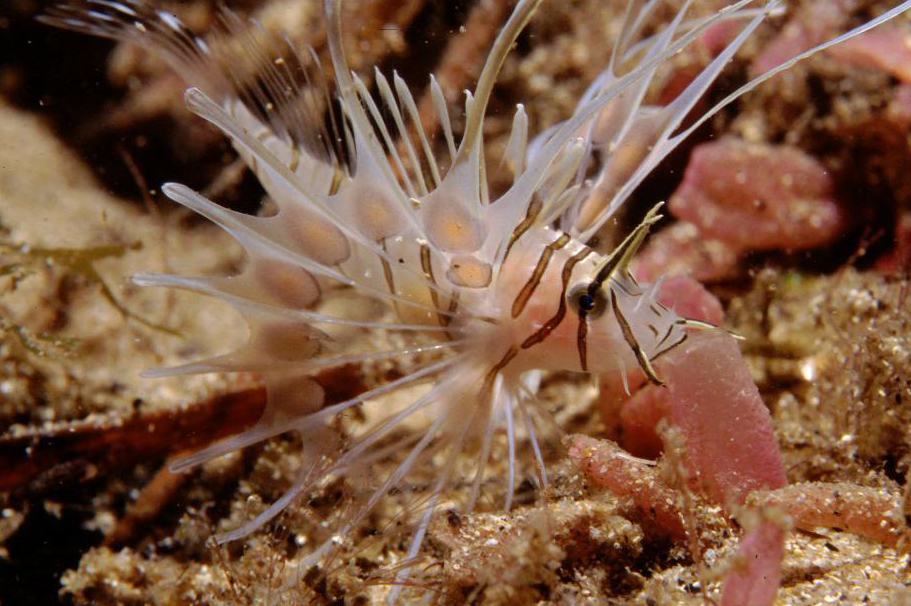Pterois_volitans: (155, 14, 733, 487)
